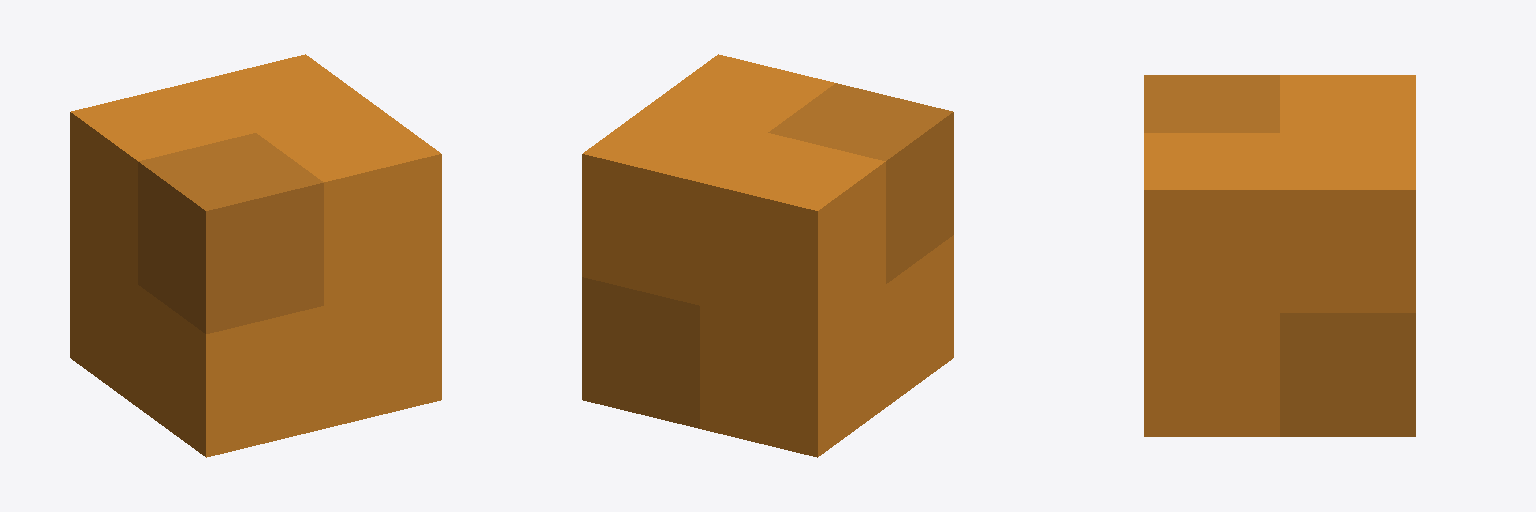
3 views of the same model, side by side, from view 1: azimuth 30°, elevation 25°; view 2: azimuth 150°, elevation 25°; view 3: azimuth 270°, elevation 25° (orthographic).
Visible parts, largest first — view 1: object 1; view 2: object 1; view 3: object 1.
Boxes of the visible parts, box(x1,y1,x2,y2) form: object 1: box(70, 54, 441, 457); object 1: box(582, 54, 953, 457); object 1: box(1144, 75, 1415, 436).
Bounding box in the file's own units: 0.2 × 0.2 × 0.2.
Materials: 1 (1 with a texture image).